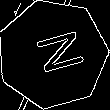N_W: (23, 28, 83, 81)
